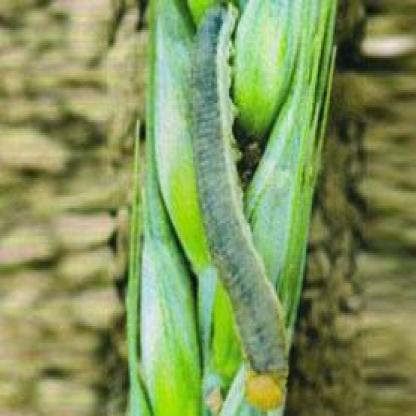sawfly: (182, 0, 298, 416)
